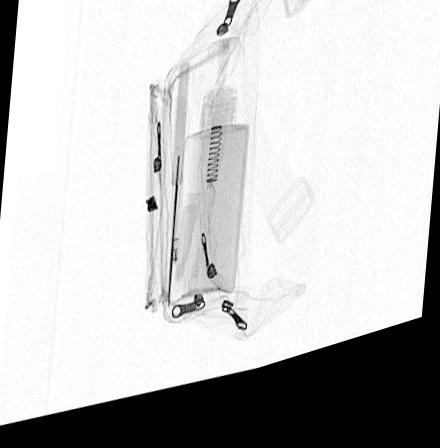Knife: (166, 72, 188, 318)
